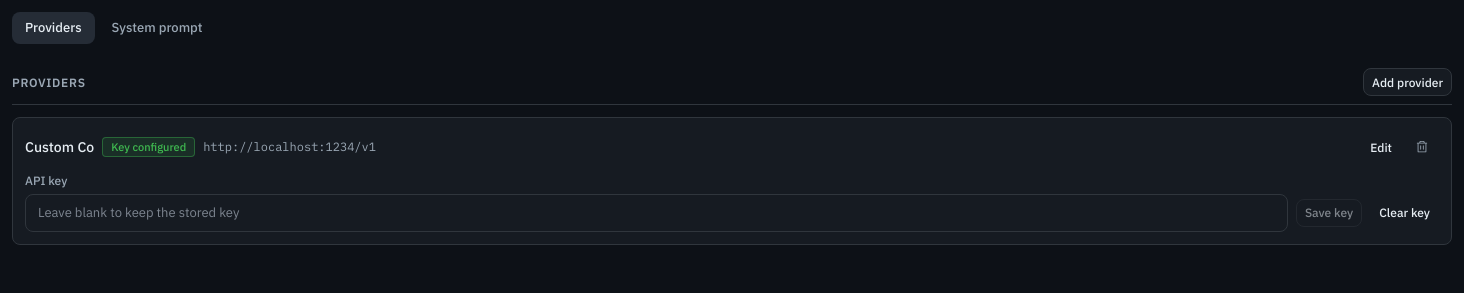
Scenario: SettingsPanel providers › surfaces a failed key save instead of a silent success
Type "sk-test" into the password field named "api key for custom co". click: (656, 213)
box: [25, 194, 1288, 232]
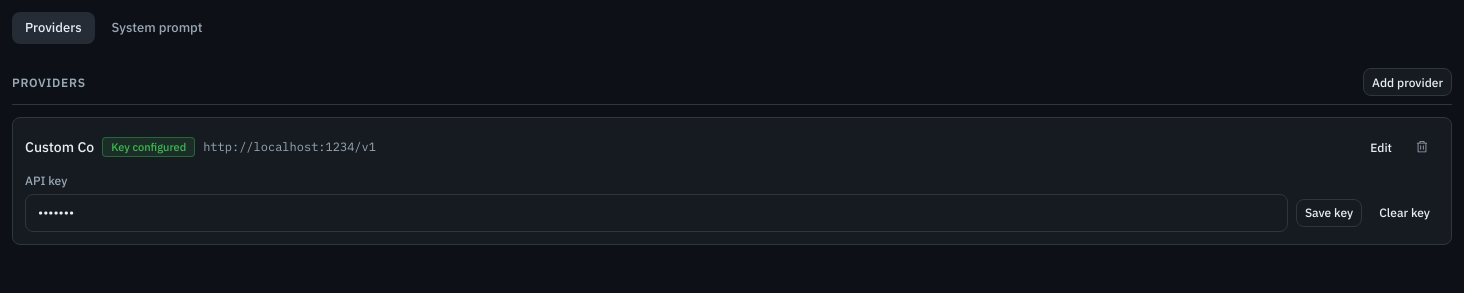
Click the button "Save key". click: (1329, 213)
box: [1296, 199, 1362, 227]
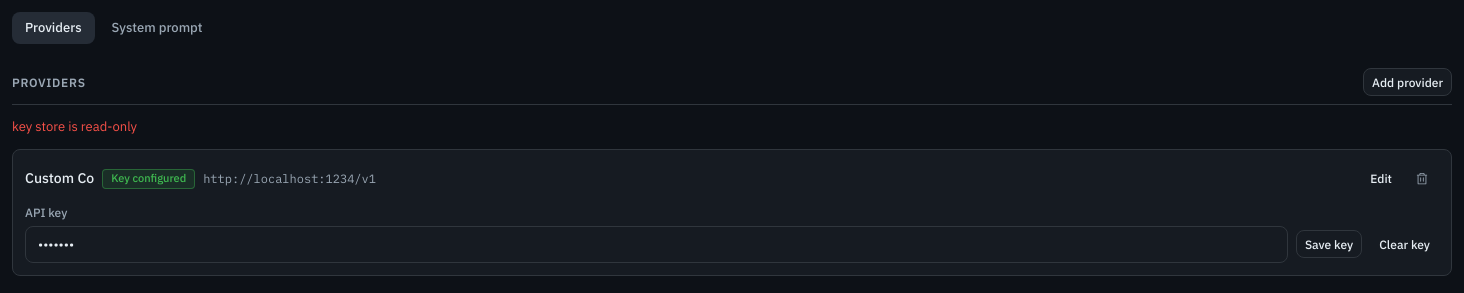
Expected: the message reads "key store is read-only", [12, 118, 137, 135]
